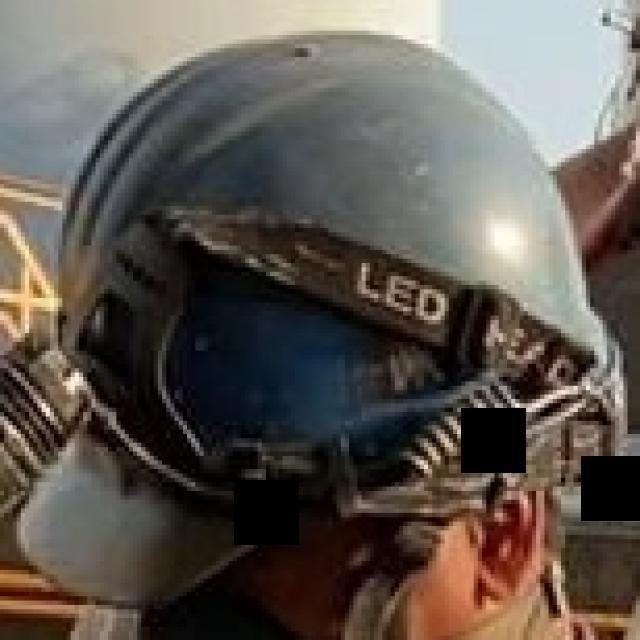blue helmet: (24, 24, 631, 621)
